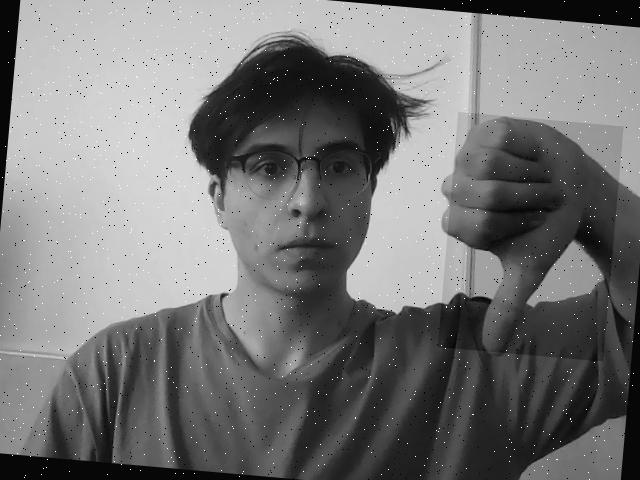bad: (437, 112, 623, 362)
